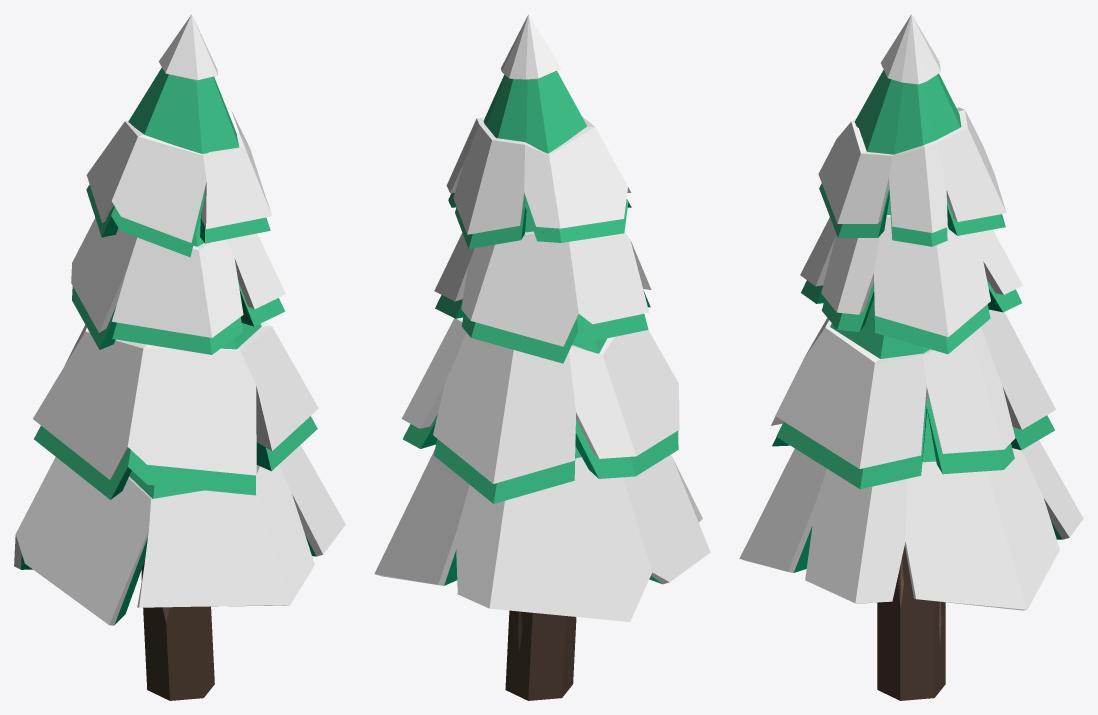
Rendered from SnowTree_02.glb.
The picture shows the model from 3 angles, left to right: view 1: azimuth 30°, elevation 25°; view 2: azimuth 150°, elevation 25°; view 3: azimuth 270°, elevation 25°; orthographic projection.
Parts seen in each view (by area): view 1: SnowTree_02; view 2: SnowTree_02; view 3: SnowTree_02.
Boxes of the visible parts, x1,y1,x2,y2 form: SnowTree_02: [14, 14, 345, 700]; SnowTree_02: [374, 14, 710, 700]; SnowTree_02: [739, 14, 1083, 700].
Size of what is drawn, in the model's own units: 2.44 by 5.58 by 2.57.
1 material, 1 textured.
